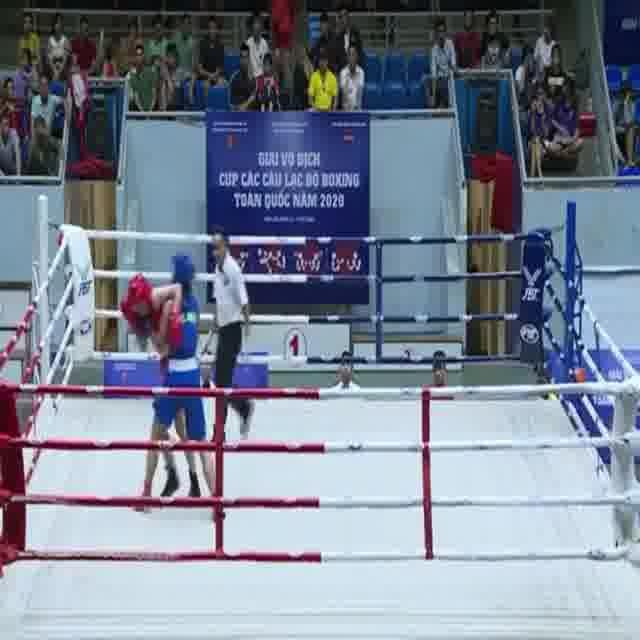blue-player: (134, 248, 229, 522)
red-player: (117, 268, 203, 504)
referee: (200, 228, 261, 446)
